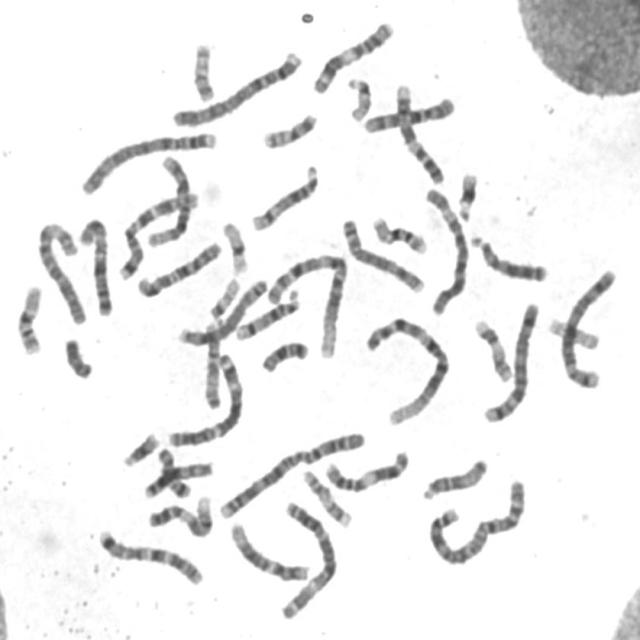A1: (361, 310, 454, 427), (262, 246, 351, 361)
A2: (212, 425, 368, 521), (422, 473, 528, 567)
A3: (161, 346, 247, 449), (274, 494, 339, 621)
B4: (168, 45, 305, 129), (76, 125, 220, 197)
B5: (555, 264, 620, 392), (479, 296, 542, 424)
C10: (132, 235, 224, 299), (359, 90, 457, 136)
C11: (307, 14, 396, 96), (320, 444, 412, 494)
C12: (225, 517, 311, 583), (144, 150, 194, 250)
C6: (419, 181, 472, 318), (32, 216, 89, 326)
C7: (115, 187, 200, 282), (92, 524, 206, 588)
C8: (337, 212, 427, 294), (174, 272, 269, 348)
C9: (390, 78, 446, 186), (144, 489, 216, 538)
D13: (465, 228, 551, 284), (140, 456, 216, 500)
D14: (246, 158, 322, 232), (232, 285, 302, 342)
D15: (418, 452, 490, 502), (198, 314, 224, 411)
E16: (367, 209, 430, 256), (12, 279, 45, 357)
E17: (298, 464, 354, 528), (470, 313, 515, 384)
E18: (153, 442, 194, 501), (256, 335, 310, 374)
F19: (543, 312, 603, 352), (217, 215, 251, 276)
F20: (258, 106, 320, 150), (188, 36, 218, 104)
G21: (118, 426, 161, 469), (452, 165, 481, 222)
G22: (204, 272, 243, 322), (342, 71, 374, 123)
X: (74, 211, 115, 318)
Y: (59, 332, 95, 381)
